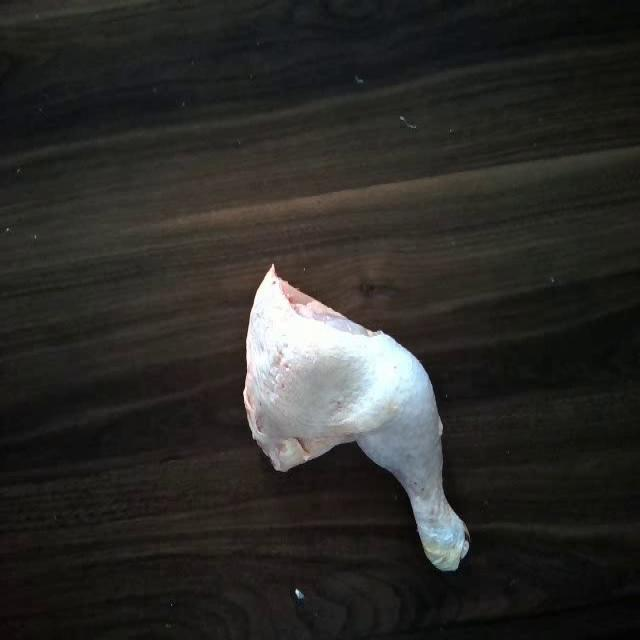quater: (227, 259, 483, 587)
